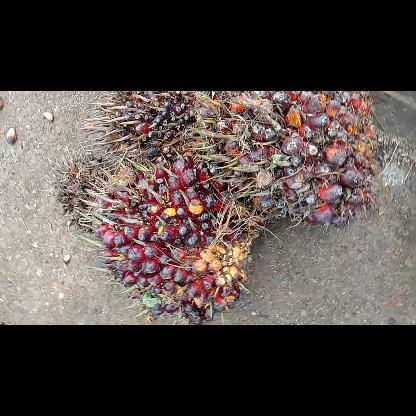TBS abnormal: (76, 92, 202, 176), (49, 144, 121, 236)
TBS masak: (75, 156, 265, 324), (186, 92, 386, 230)
